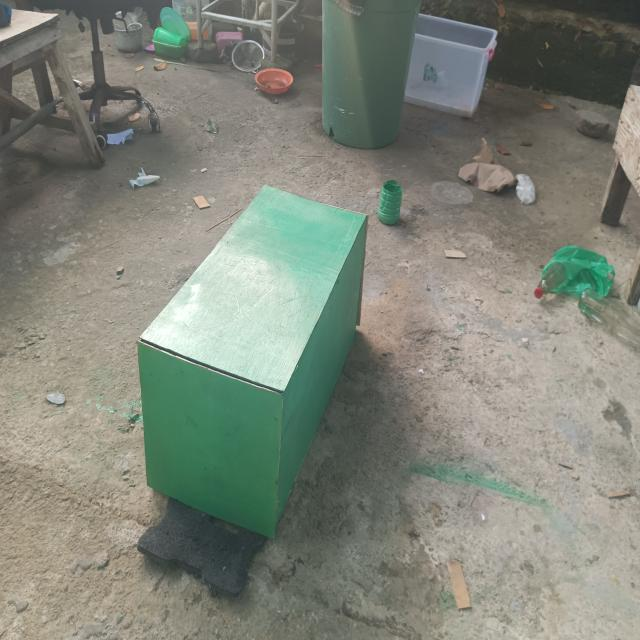green_box: (98, 136, 391, 566)
